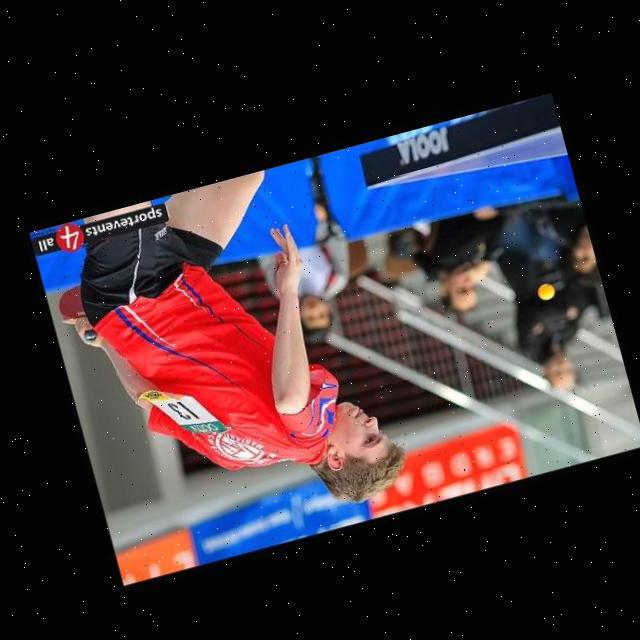ping-pong-ball: (534, 278, 556, 300)
